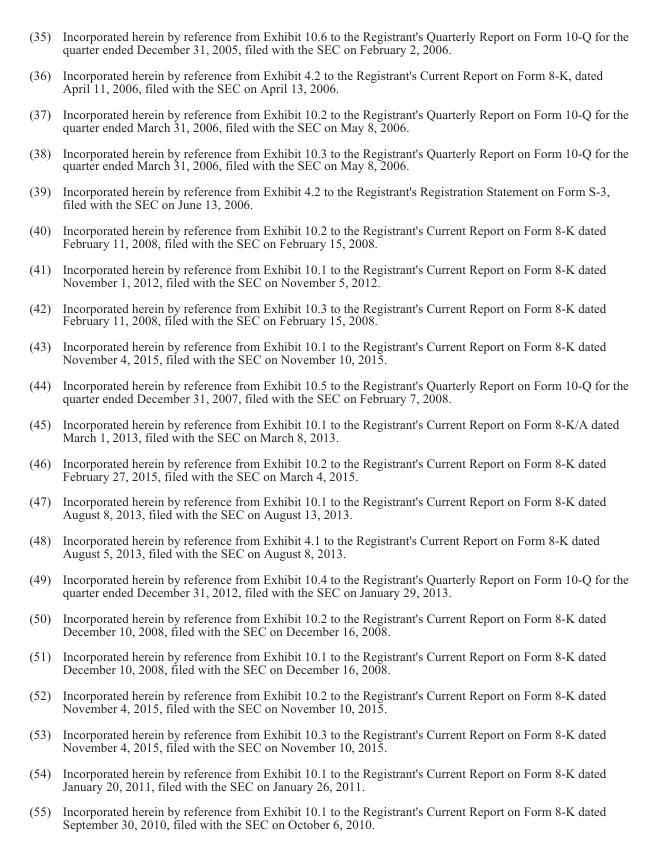table: (28, 28, 627, 831)
table column: (55, 28, 627, 831), (28, 28, 55, 831)
table row: (28, 61, 627, 100), (28, 100, 627, 139), (28, 177, 627, 216), (28, 216, 627, 255), (28, 255, 627, 294), (28, 294, 627, 333), (28, 371, 627, 410), (28, 410, 627, 449), (28, 449, 627, 488), (28, 526, 627, 565), (28, 565, 627, 604), (28, 604, 627, 643), (28, 681, 627, 720), (28, 720, 627, 759), (28, 759, 627, 798), (28, 139, 627, 177), (28, 333, 627, 371), (28, 488, 627, 526), (28, 643, 627, 681), (28, 28, 627, 61), (28, 798, 627, 831)
